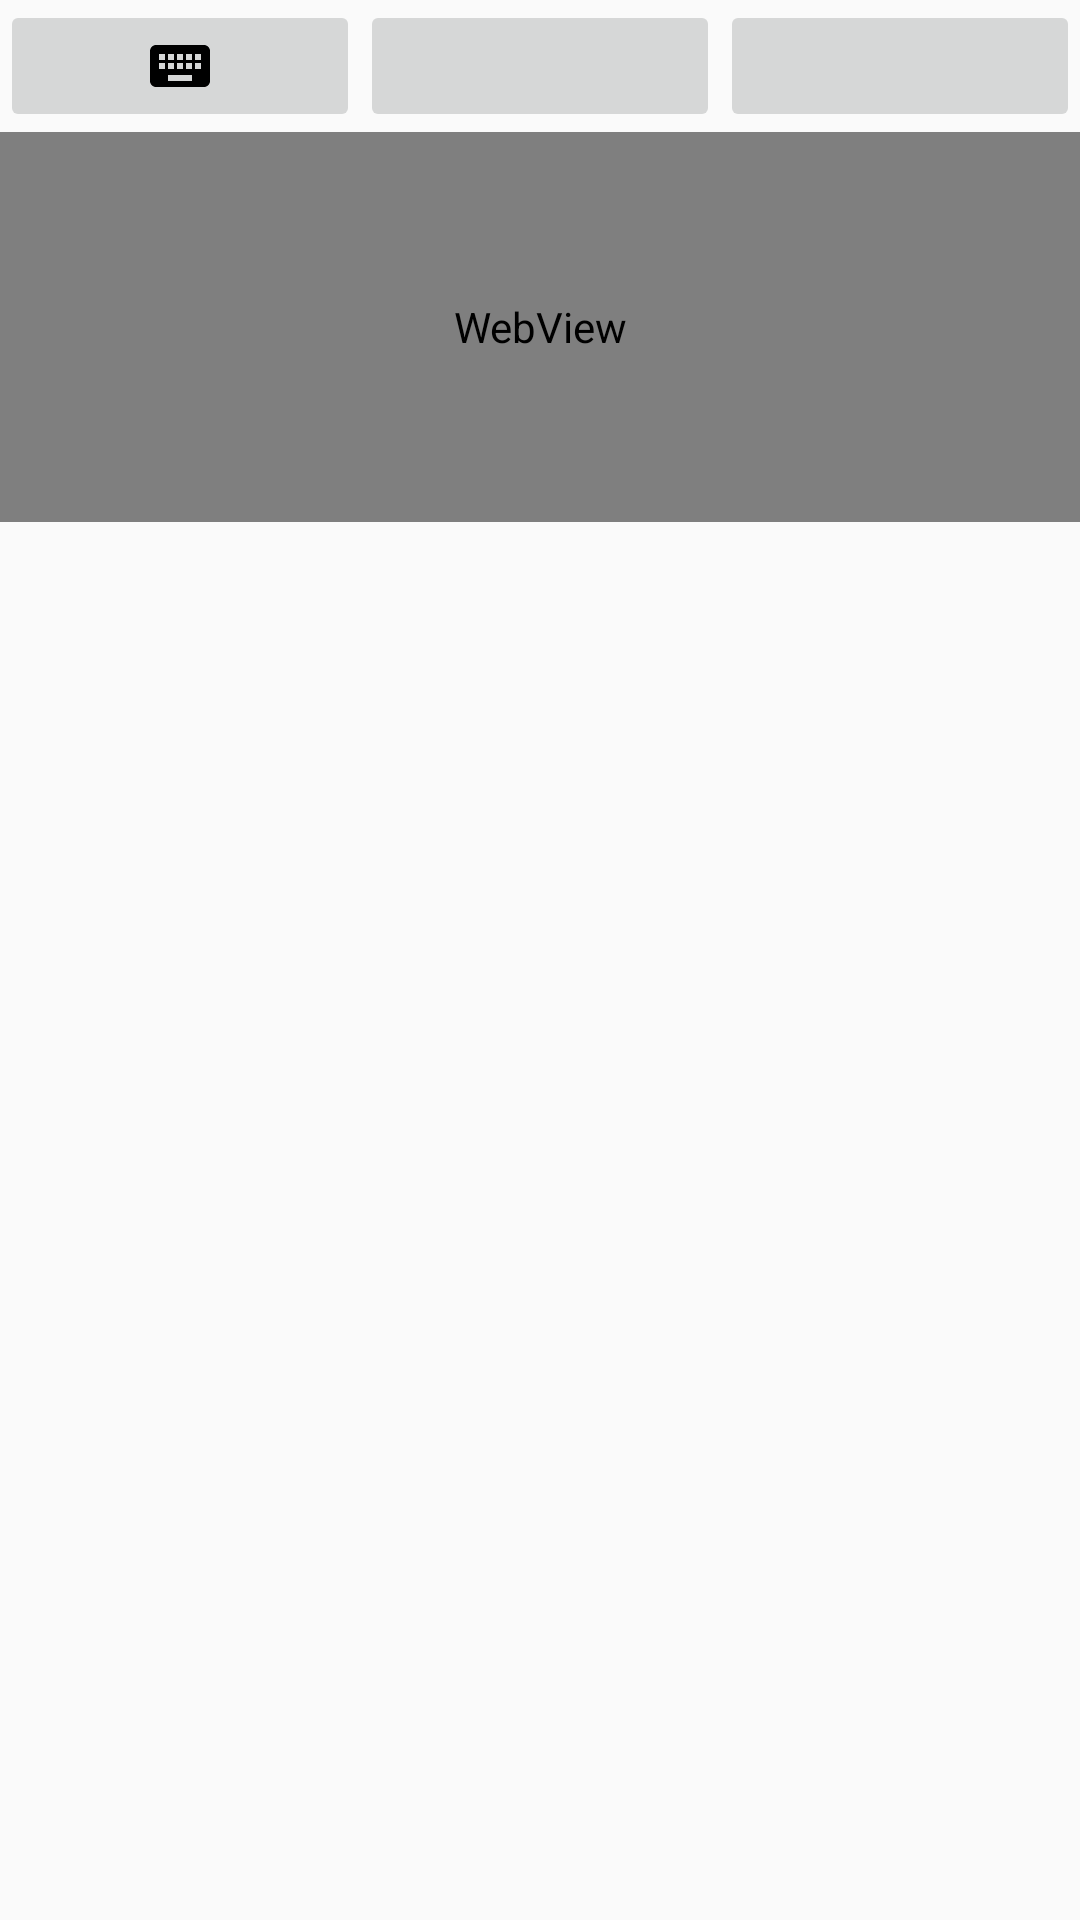

Icon click points for this 1080px×1920px phone screenshot, format (x=x, y=y):
keyboard: (x=180, y=66)
